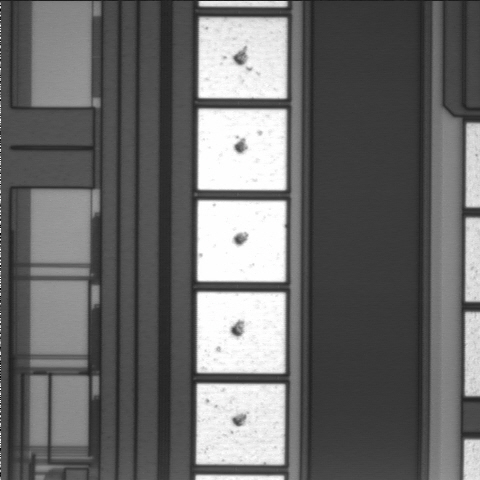pad: (197, 200, 286, 282), (198, 18, 287, 99), (198, 109, 287, 190), (197, 292, 286, 373), (196, 384, 285, 465)
